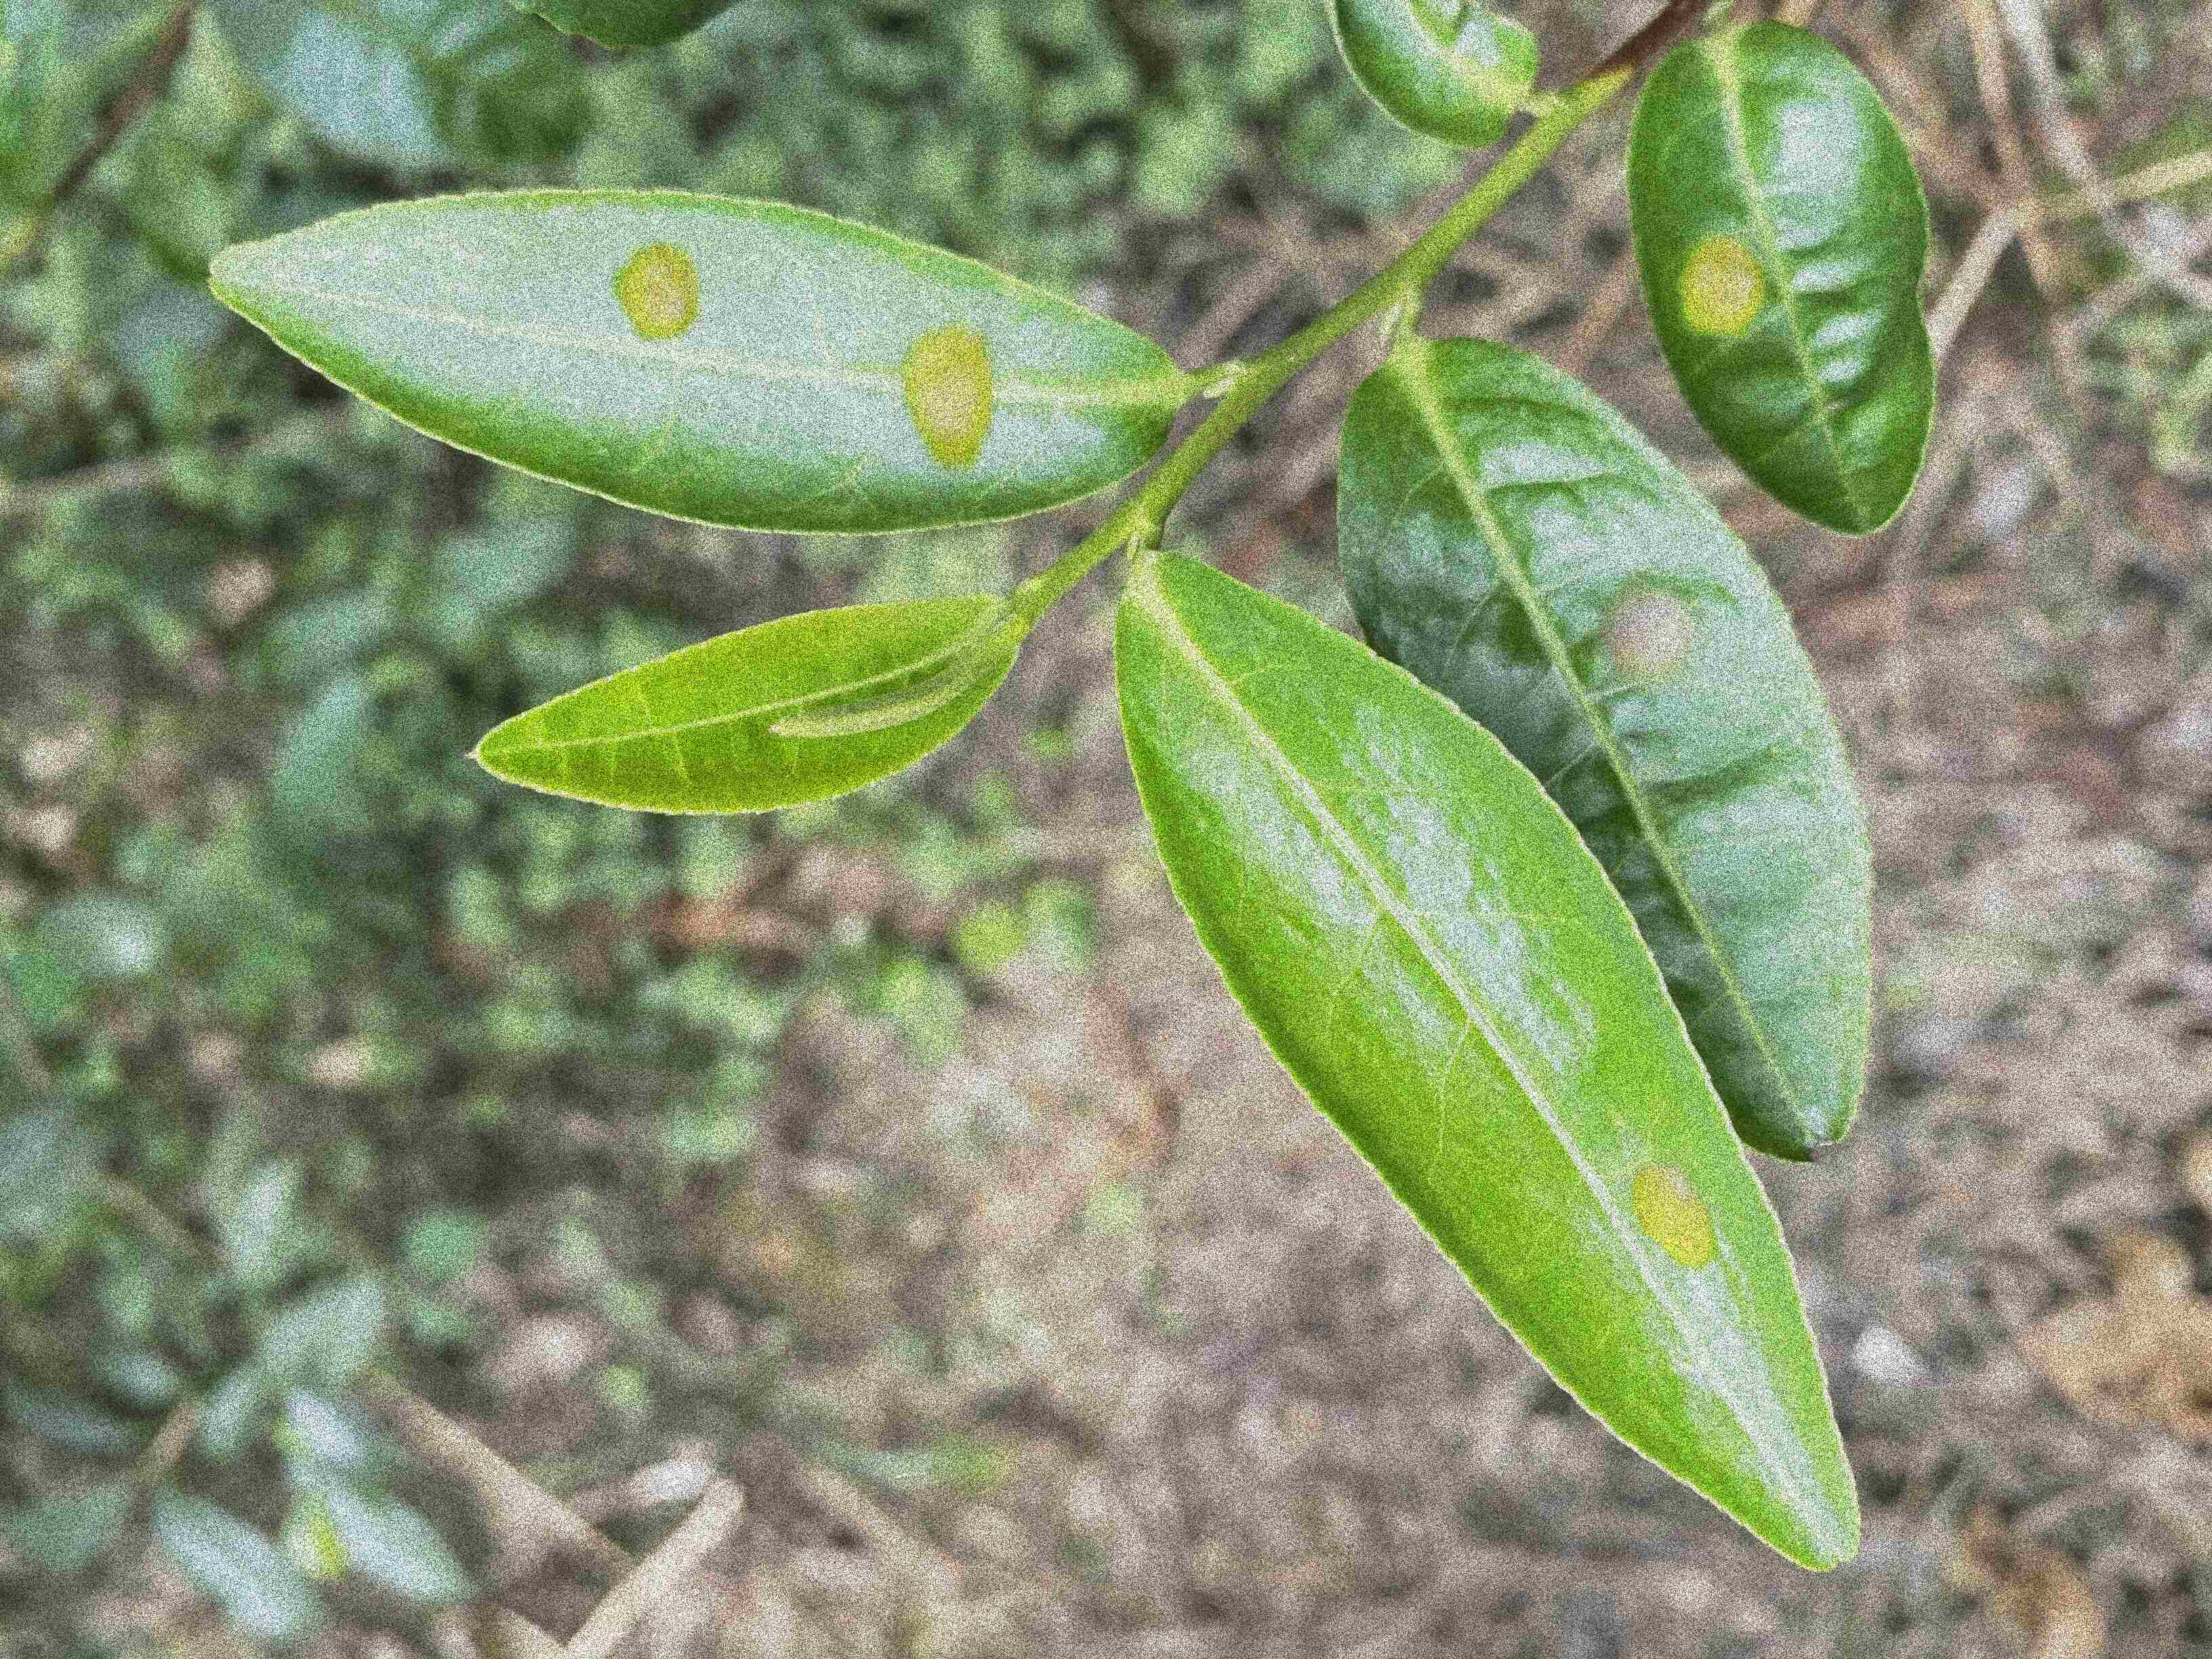chabing_high: (207, 185, 1183, 538)
chabing_low: (1113, 544, 1862, 1570), (1336, 335, 1878, 1164), (1622, 21, 1939, 538)
healthy: (470, 594, 1026, 816)
